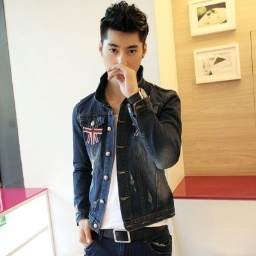face: (101, 1, 149, 80)
